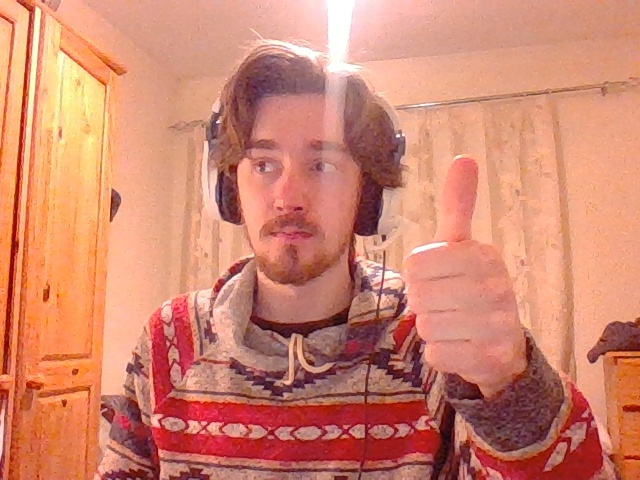good: (403, 155, 526, 370)
